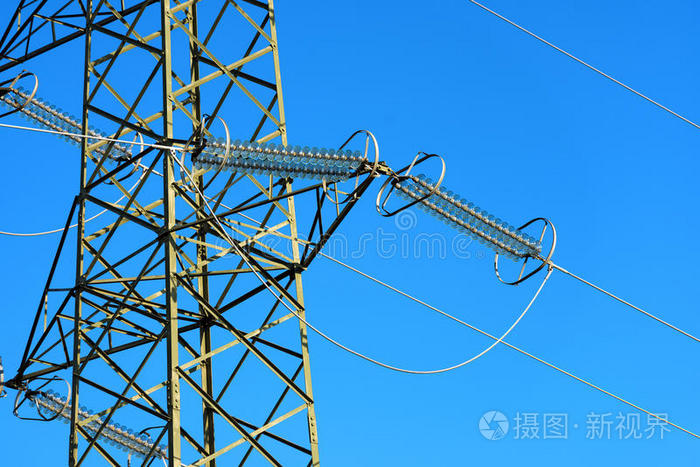insulator: (395, 173, 542, 263), (26, 387, 167, 463), (1, 87, 134, 163), (193, 137, 365, 186)
